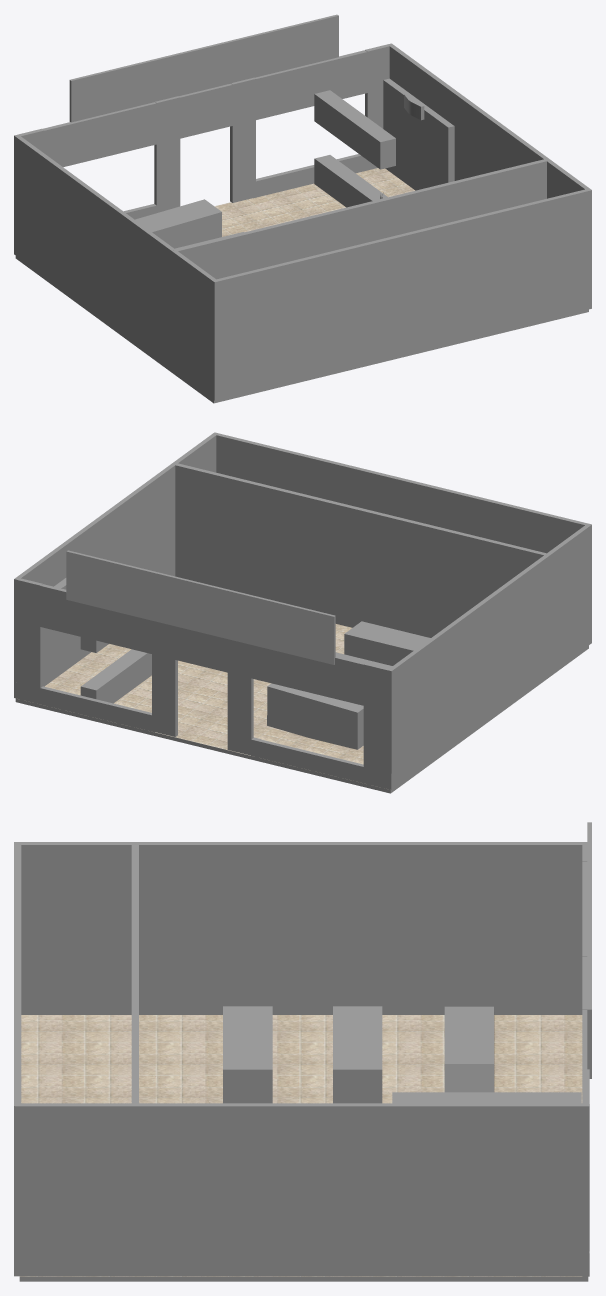
The model's file is StoreForNow.fbx.
The picture shows the model from 3 angles, top to bottom: view 1: azimuth 30°, elevation 25°; view 2: azimuth 150°, elevation 25°; view 3: azimuth 270°, elevation 25°; orthographic projection. The views are drawn at different scales.
Visible parts, largest first — view 1: polySurface3, polySurface4, StoreCoolerWall, StoreSign, polySurface5, StoreFloor, CigaretteAlcoholCase, polySurface8, polySurface9, StoreCounterTop, polySurface1, polySurface6 (+5 smaller); view 2: StoreCoolerWall, polySurface4, polySurface3, StoreSign, StoreFloor, polySurface5, StoreShelf1, polySurface8, polySurface9, polySurface12, polySurface6, polySurface1 (+7 smaller); view 3: polySurface5, polySurface4, StoreFloor, StoreShelf3, StoreShelf2, StoreShelf1, StoreCounterTop, polySurface3, StoreCoolerWall, StoreSign.
Boxes of the visible parts, box(x1,y1,x2,y2) form: polySurface3: box(212, 188, 591, 400); polySurface4: box(14, 134, 217, 400); StoreCoolerWall: box(173, 159, 546, 279); StoreSign: box(69, 14, 338, 122); polySurface5: box(387, 43, 591, 198); StoreFloor: box(15, 168, 588, 403); CigaretteAlcoholCase: box(383, 78, 454, 190); polySurface8: box(41, 102, 156, 167); polySurface9: box(253, 50, 369, 120); StoreCounterTop: box(314, 90, 395, 169); polySurface1: box(230, 77, 255, 202); polySurface6: box(154, 96, 180, 212); StoreCoolerWall: box(175, 463, 548, 637); polySurface4: box(387, 524, 591, 789); polySurface3: box(212, 432, 591, 553); StoreSign: box(66, 550, 335, 664); StoreFloor: box(15, 624, 588, 793); polySurface5: box(14, 433, 217, 682); StoreShelf1: box(267, 683, 363, 749); polySurface8: box(251, 645, 366, 706); polySurface9: box(38, 584, 154, 653); polySurface12: box(17, 578, 42, 703); polySurface6: box(227, 639, 253, 755); polySurface1: box(152, 620, 177, 736); polySurface5: box(15, 1103, 589, 1276); polySurface4: box(15, 842, 587, 1014); StoreFloor: box(19, 1015, 588, 1281); StoreShelf3: box(223, 1006, 272, 1103); StoreShelf2: box(333, 1006, 382, 1103); StoreShelf1: box(444, 1006, 494, 1092); StoreCounterTop: box(392, 1092, 581, 1103); polySurface3: box(14, 842, 21, 1276); StoreCoolerWall: box(131, 843, 138, 1103); StoreSign: box(587, 822, 591, 1078).
Size of the model in its own units: 77.21 by 32.08 by 71.33.
